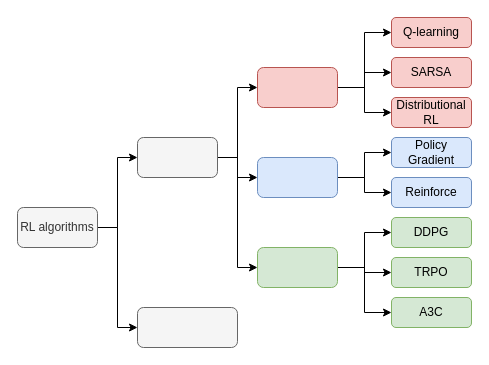
The diagram is 489 pixels wide and 365 high, and some of its shapes have lost their labels. The shapes that lost their labels are listed below. From the top down, each one's box as (x1, y1, x2, y2) in pixels, then its label:
(256, 66, 338, 108): Critic-only
(136, 136, 218, 178): Model-free RL
(256, 156, 338, 198): Actor-only
(256, 246, 338, 288): Actor-critic
(136, 306, 238, 348): Model-based RL
